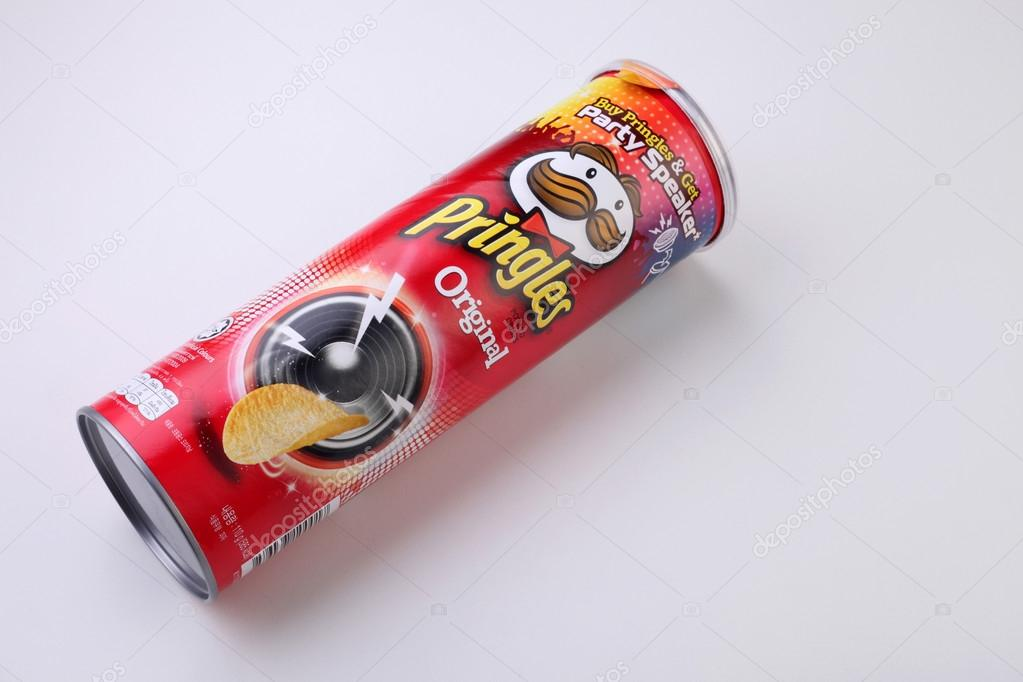pringle: (60, 59, 743, 605)
